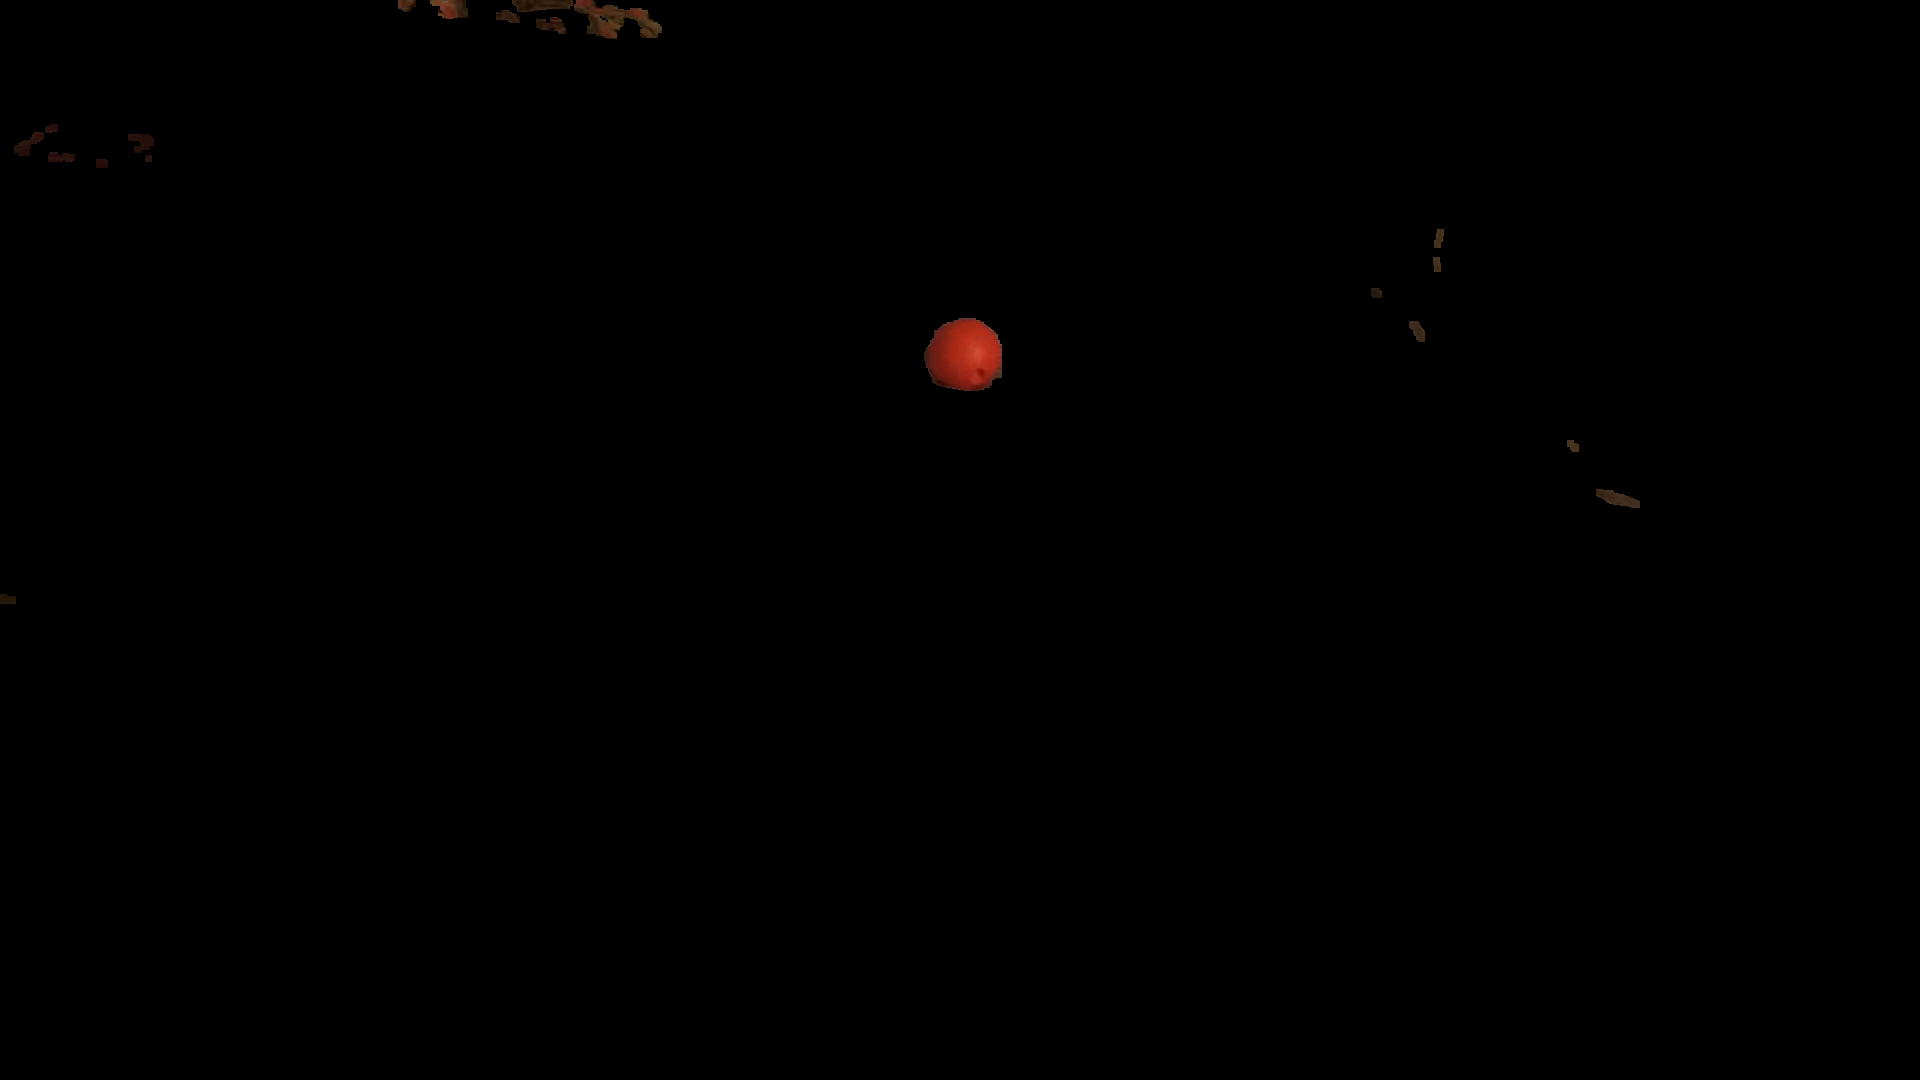Ball: (924, 316, 1001, 388)
